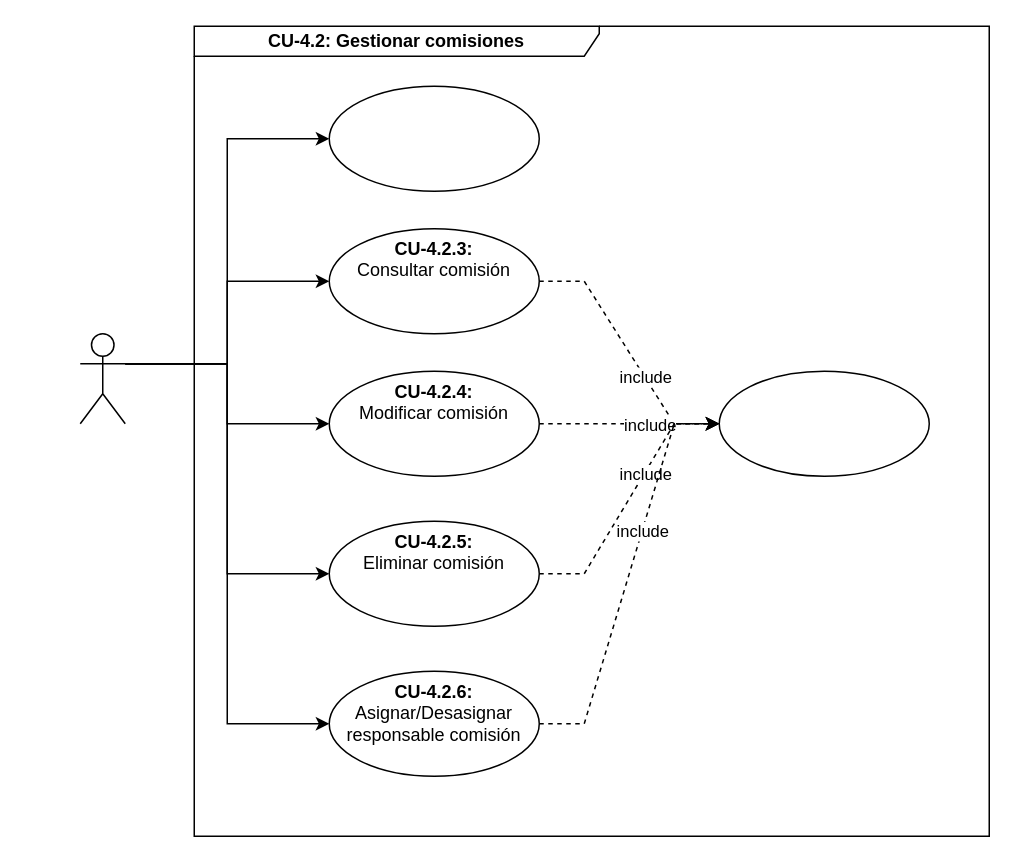
Some shapes in this 1016 by 863 pixel diagram are drawn without their labels. The shapes that lost their labels are listed below. From the top down, each one's centre as x and y in pixels, then its label:
the point at 433,138: CU-4.2.2: Crear comisión
the point at 102,378: Responsable Junta
the point at 823,423: CU-4.2.1: Buscar comisión
